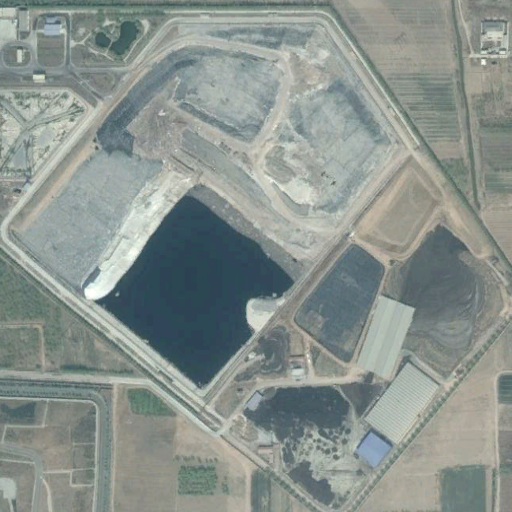lf: (18, 12, 414, 403)
